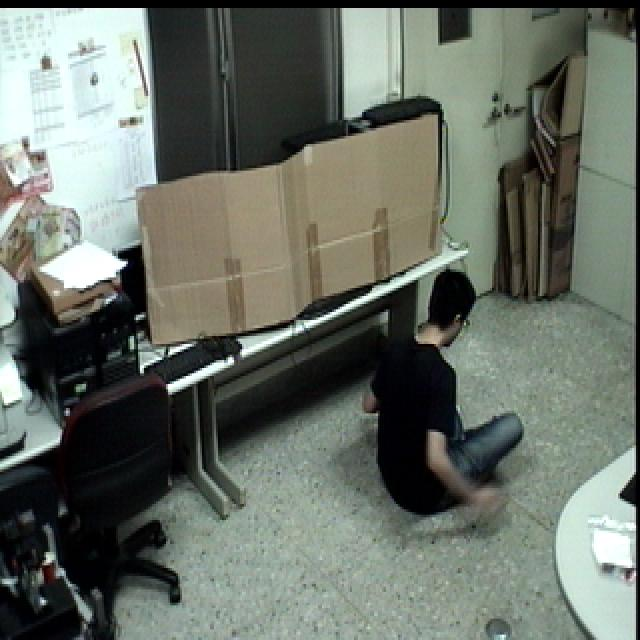sit: (358, 260, 529, 520)
